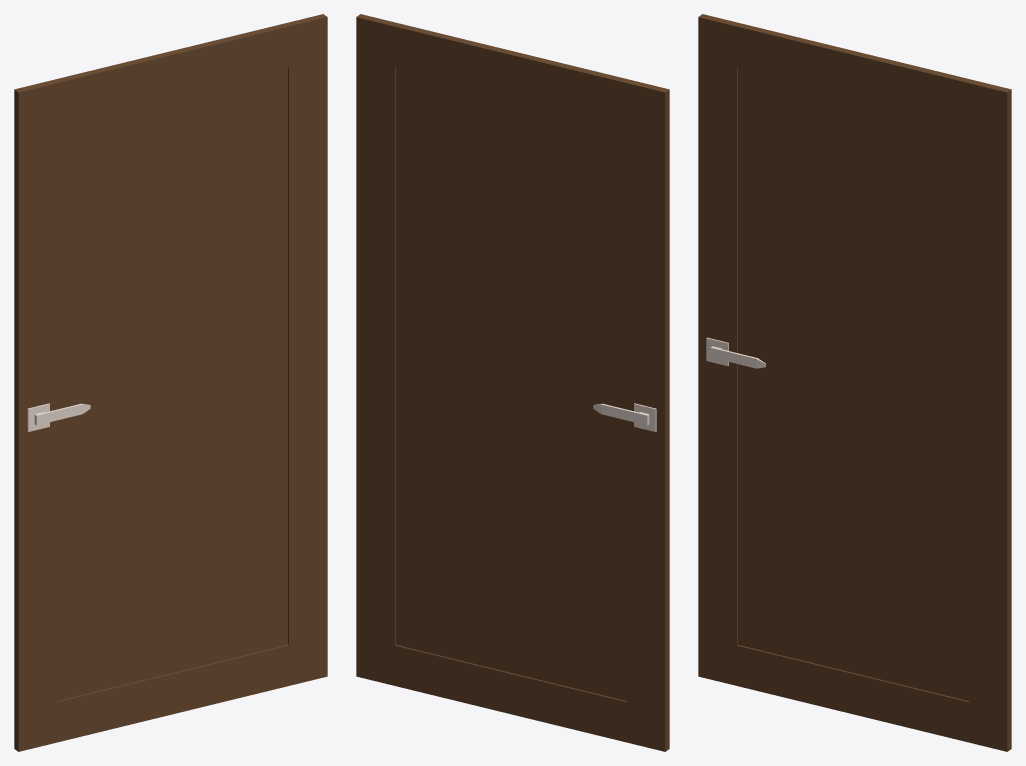
The model's file is door.fbx.
3 renders of one model, left to right at view 1: azimuth 30°, elevation 25°; view 2: azimuth 150°, elevation 25°; view 3: azimuth 330°, elevation 25°, orthographic.
Visible parts, largest first — view 1: Cube.001; view 2: Cube.001; view 3: Cube.001.
Part boxes in pixels (x1,y1,x2,y2): Cube.001: (14, 14, 327, 751); Cube.001: (356, 14, 669, 751); Cube.001: (698, 14, 1011, 751).
Bounding box in the file's own units: 0.977 × 1.99 × 0.0542.
